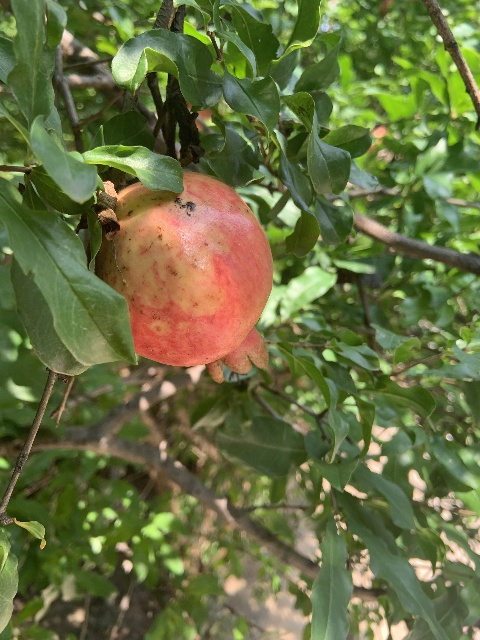ripe: (92, 170, 273, 380)
